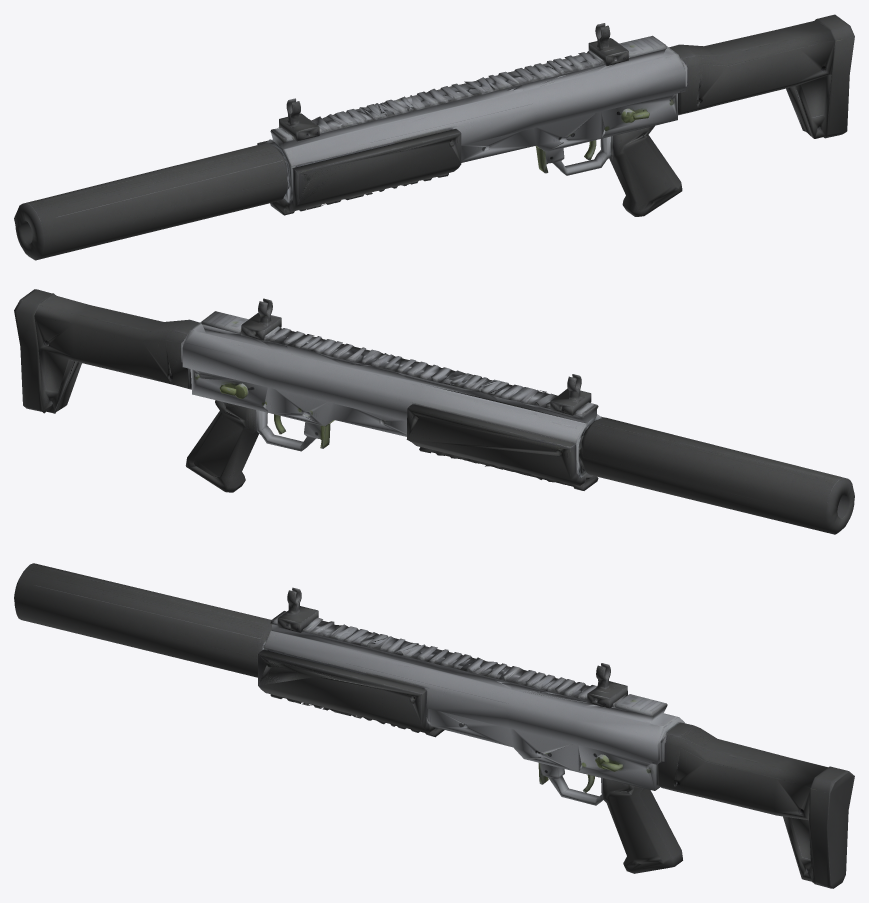
File: ar_drifter.glb
The picture shows the model from 3 angles, top to bottom: view 1: azimuth 30°, elevation 25°; view 2: azimuth 150°, elevation 25°; view 3: azimuth 330°, elevation 25°; orthographic projection.
Size of the model in its own units: 0.9551 by 0.2197 by 0.0815.
Materials: 1 (1 with a texture image).
